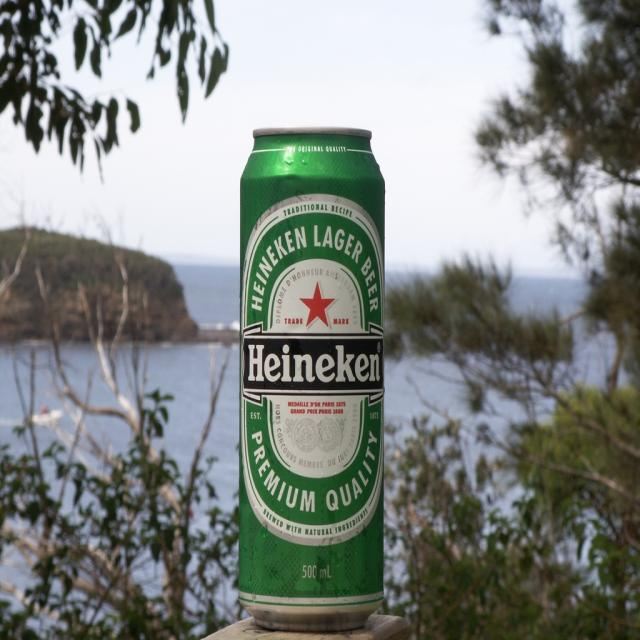heineken: (240, 194, 385, 548)
